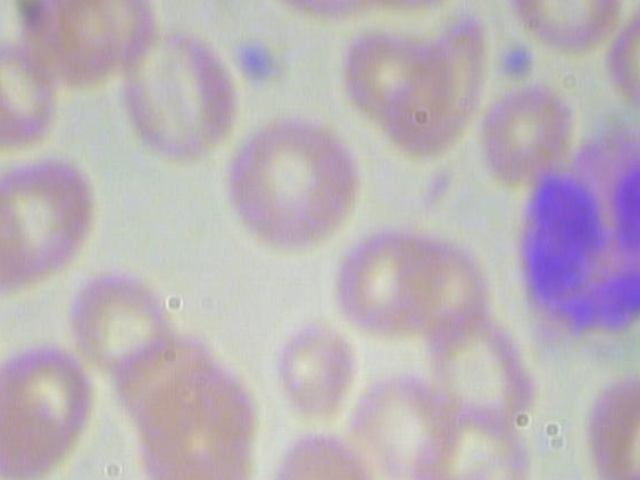Platelets: (226, 36, 282, 85), (491, 44, 538, 82)
